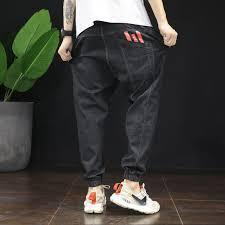pants: (68, 21, 166, 186)
